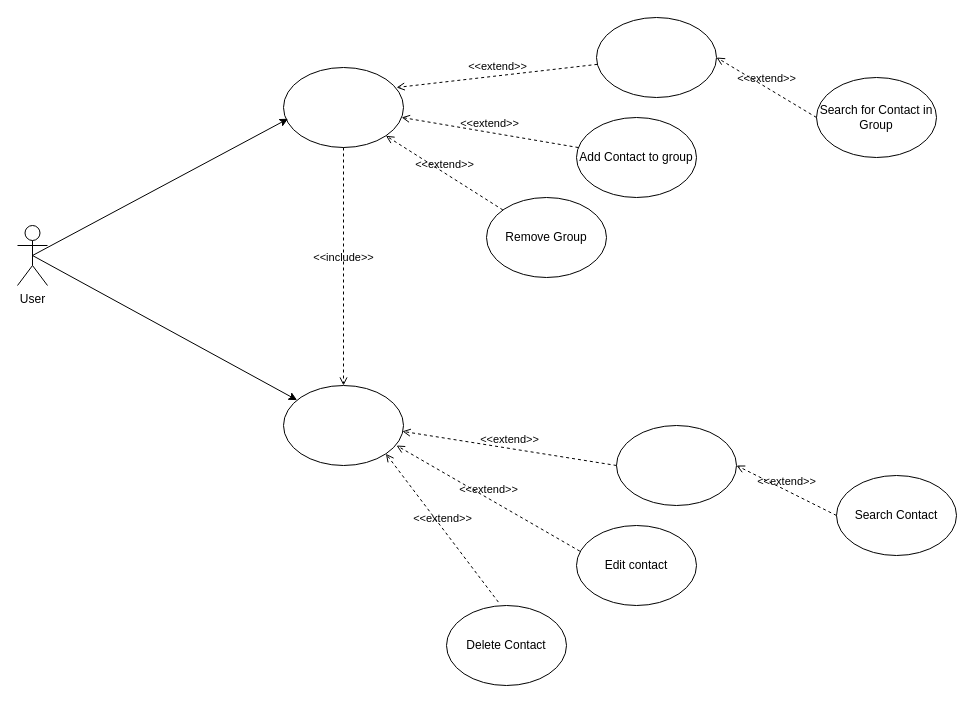
This 974x703 diagram has some shape labels left out. The shapes that lost their labels are listed below. From the top down, each one's centre as x and y in pixels, then its label:
the point at 656,57: View Contact by Group
the point at 343,107: Create Group
the point at 343,425: Create Contact
the point at 676,465: View Contact
